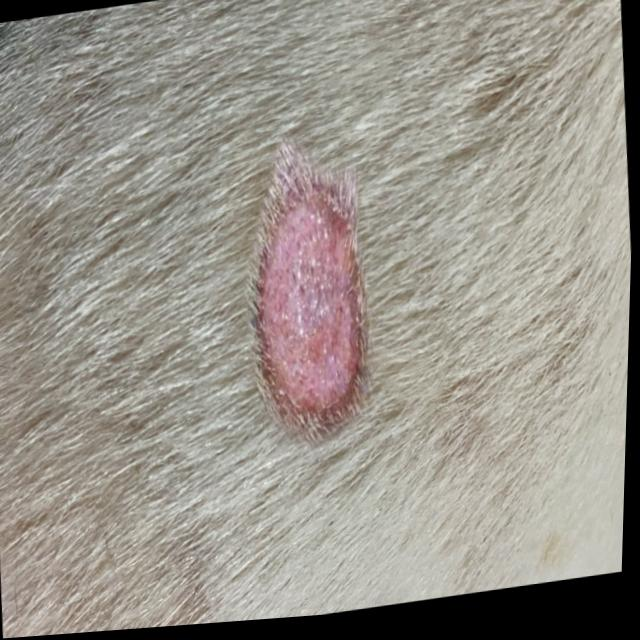ringworm: (240, 143, 380, 464)
